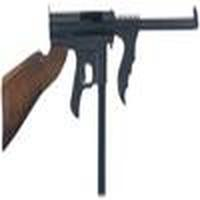gun: (3, 11, 200, 171)
